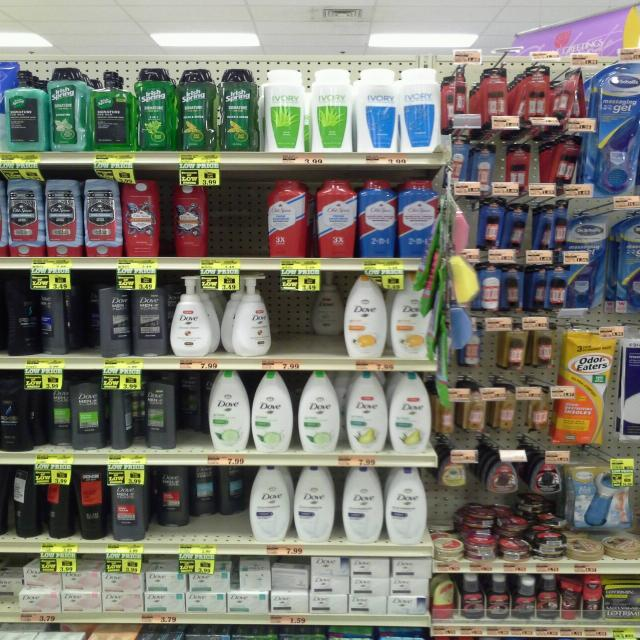void: (435, 425, 640, 492), (206, 176, 262, 257)
